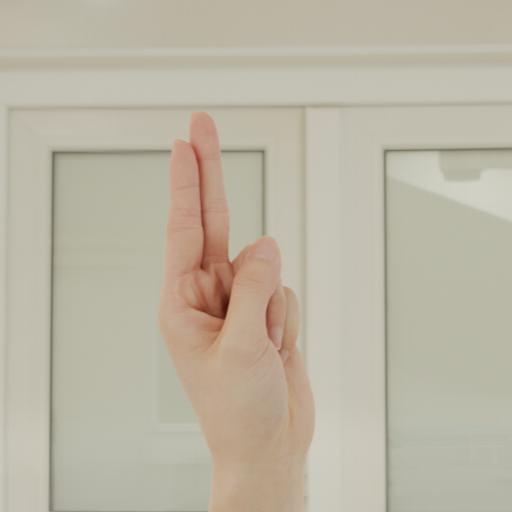U: (152, 106, 330, 476)
